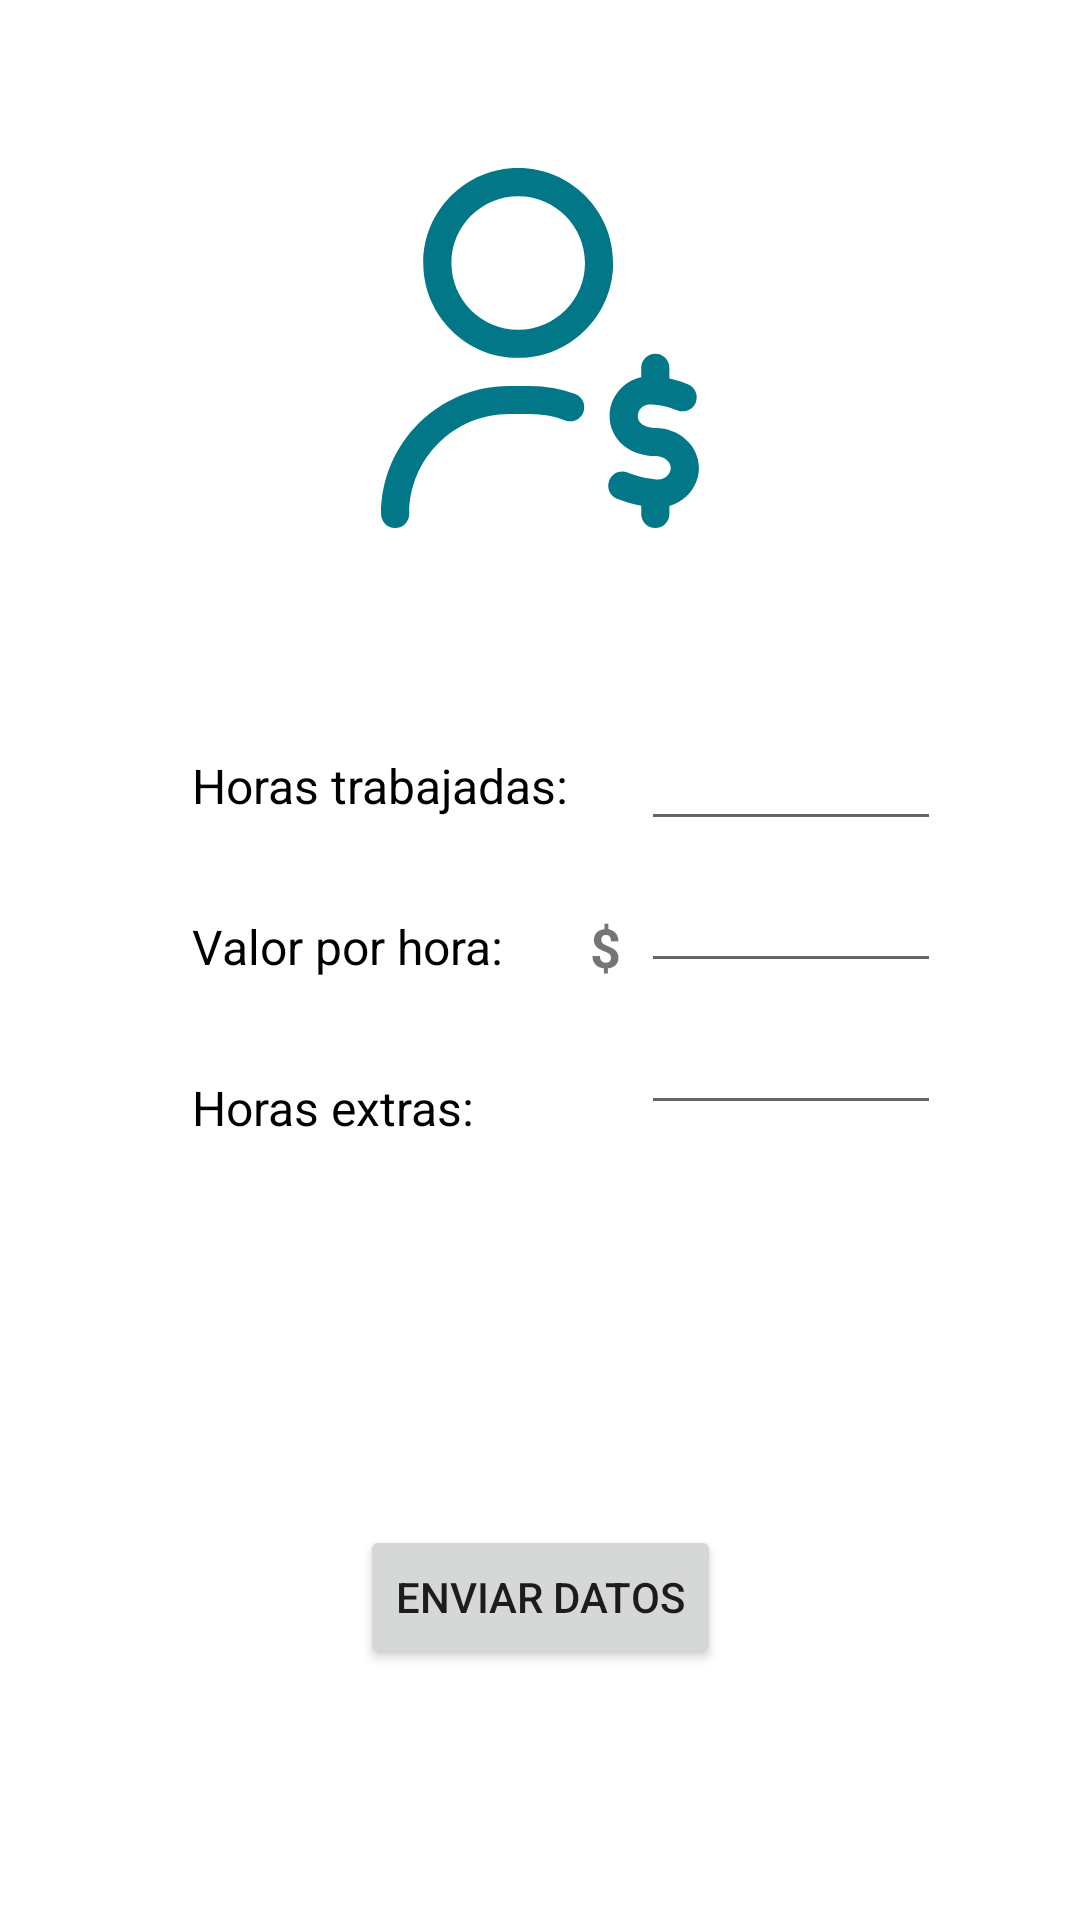

Icons on this 1080w x 1920h Android screen, each with its box as (x1=x1, y1=y1, x2=x2, y2=y2):
employee: (x1=381, y1=168, x2=699, y2=528)
